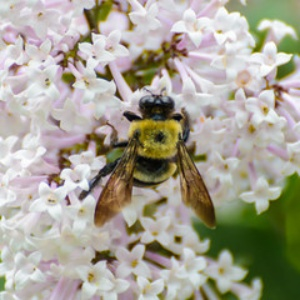bee: (98, 91, 219, 234)
